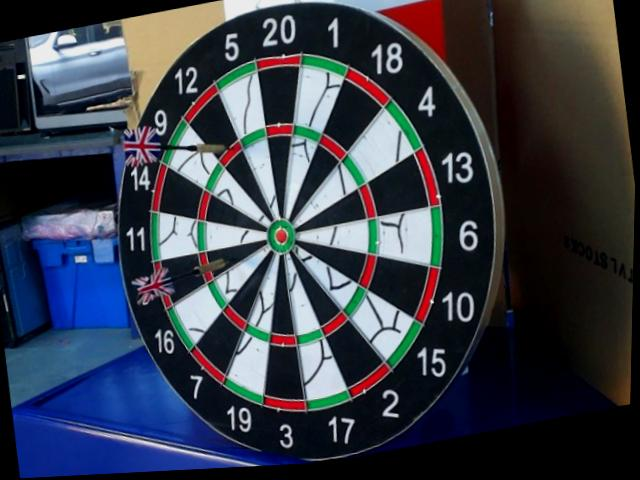single_8: (212, 244, 263, 271)
triple_12: (219, 144, 241, 164)
